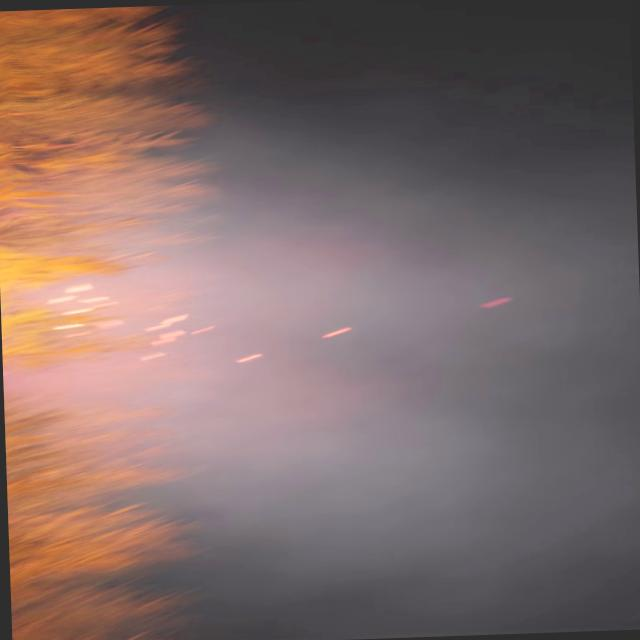fire: (47, 274, 371, 376)
smoke: (0, 151, 633, 593)
